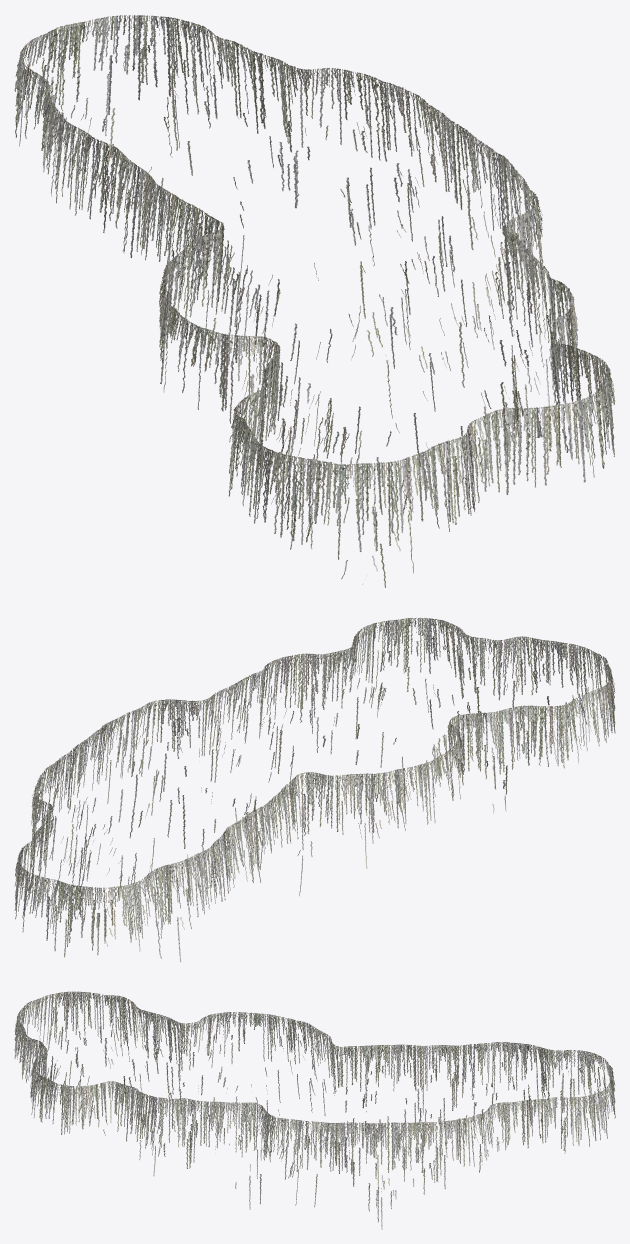
Rendered from SM_H02_Vines.fbx.
3 renders of one model, top to bottom at view 1: azimuth 30°, elevation 25°; view 2: azimuth 150°, elevation 25°; view 3: azimuth 270°, elevation 25°, orthographic. The views are drawn at different scales.
Parts seen in each view (by area): view 1: SM_H02_Vines; view 2: SM_H02_Vines; view 3: SM_H02_Vines.
Part boxes in pixels (box(x1,y1,x2,y2)): SM_H02_Vines: box(14, 15, 615, 587); SM_H02_Vines: box(14, 617, 615, 962); SM_H02_Vines: box(14, 991, 615, 1229).
Bounding box in the file's own units: 174 × 86.66 × 331.
